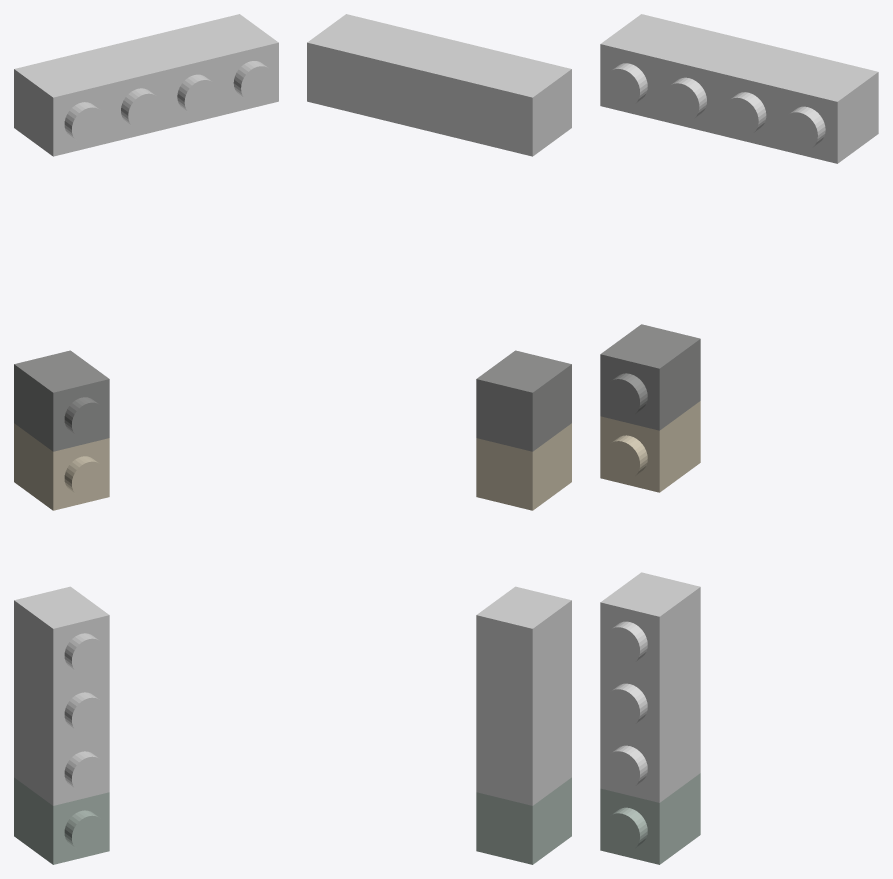
Rendered from current.glb.
3 renders of one model, left to right at view 1: azimuth 30°, elevation 25°; view 2: azimuth 150°, elevation 25°; view 3: azimuth 330°, elevation 25°, orthographic. The views are drawn at different scales.
Visible parts, largest first — view 1: world; view 2: world; view 3: world.
Part boxes in pixels (<box>): world: <box>14,14,278,864</box>; world: <box>307,14,571,864</box>; world: <box>600,14,878,864</box>.
Bounding box in the file's own units: 32 × 104 × 11.4.
